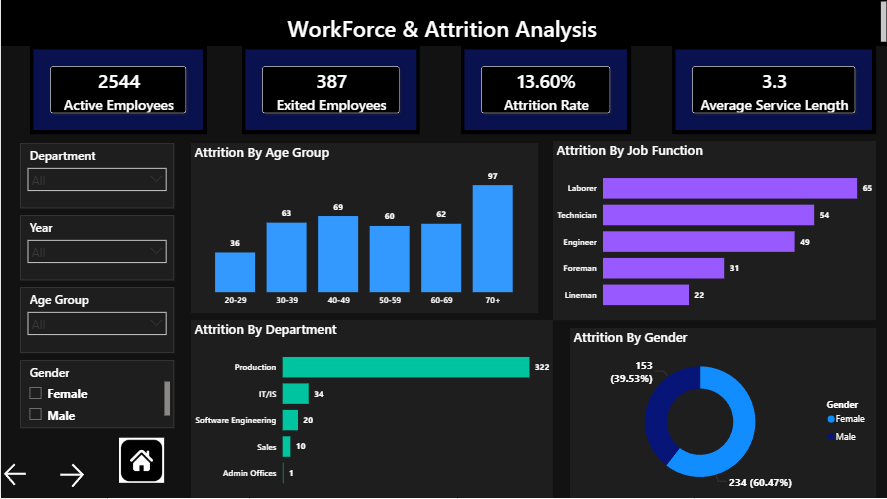

This screenshot's page, from the dashboard's own definition file:
{"tool":"powerbi","page":{"name":"WorkForce & Attrition Analysis","canvas":[1280,720],"ordinal":1},"visuals":[{"type":"columnChart","title":"Attrition By Age Group","fields":{"Category":["HR_DATA.Age Group"],"Y":["Date_Table.Attrition Count"]},"box":[273.6,208.8,499.7,244.8],"z":0},{"type":"clusteredBarChart","title":"Attrition By Department","fields":{"Category":["HR_DATA.Department"],"Y":["Date_Table.Attrition Count"]},"box":[273.6,463.7,521.3,256.3],"z":1000},{"type":"donutChart","title":"Attrition By Gender","fields":{"Category":["HR_DATA.Gender"],"Y":["Date_Table.Attrition Count"]},"box":[819.4,475.2,440.6,244.8],"z":2000},{"type":"barChart","title":"Attrition By Job Function","fields":{"Category":["HR_DATA.Job Function"],"Y":["Date_Table.Attrition Count"]},"box":[794.9,205.9,465.1,257.8],"z":3000},{"type":"cardVisual","fields":{"Data":["Date_Table.Attrition Count"]},"box":[347,69.1,256.3,126.7],"z":4000},{"type":"cardVisual","fields":{"Data":["Date_Table.Attrition Rate"]},"box":[662.4,69.1,244.8,126.7],"z":5000},{"type":"cardVisual","fields":{"Data":["Date_Table.Avg Service Length"]},"box":[966.2,69.1,293.8,126.7],"z":6000},{"type":"slicer","fields":{"Values":["HR_DATA.Department"]},"box":[27.4,208.8,221.8,93.6],"z":7000},{"type":"slicer","fields":{"Values":["HR_DATA.Age Group"]},"box":[27.4,416.2,221.8,95],"z":8000},{"type":"slicer","fields":{"Values":["HR_DATA.Gender"]},"box":[27.4,521.3,221.8,97.9],"z":9000},{"type":"slicer","fields":{"Values":["Date_Table.Year"]},"box":[27.4,312.5,221.8,93.6],"z":10000},{"type":"actionButton","box":[79.2,665.3,59,44.6],"z":11000},{"type":"image","box":[169.9,632.2,64.8,66.2],"z":12000},{"type":"actionButton","box":[0,665.3,66.2,41.8],"z":13000},{"type":"textbox","box":[0,0,1280.2,69.1],"z":14000},{"type":"cardVisual","fields":{"Data":["Date_Table.Active Employees"]},"box":[41.8,69.1,254.9,126.7],"z":15000}]}

Visuals, with their boxes in screenshot pixels (x1, y1, x2, y2), scaled from the page's 1280x720 canvas onto the 887x499 screenshot:
"Attrition By Age Group" columnChart: rect(190, 145, 536, 314)
"Attrition By Department" clusteredBarChart: rect(190, 321, 551, 498)
"Attrition By Gender" donutChart: rect(568, 329, 873, 498)
"Attrition By Job Function" barChart: rect(551, 143, 873, 321)
cardVisual - Date_Table.Attrition Count: rect(240, 48, 418, 136)
cardVisual - Date_Table.Attrition Rate: rect(459, 48, 629, 136)
cardVisual - Date_Table.Avg Service Length: rect(670, 48, 873, 136)
slicer - HR_DATA.Department: rect(19, 145, 173, 210)
slicer - HR_DATA.Age Group: rect(19, 288, 173, 354)
slicer - HR_DATA.Gender: rect(19, 361, 173, 429)
slicer - Date_Table.Year: rect(19, 217, 173, 281)
actionButton: rect(55, 461, 96, 492)
image: rect(118, 438, 163, 484)
actionButton: rect(0, 461, 46, 490)
textbox: rect(0, 0, 886, 48)
cardVisual - Date_Table.Active Employees: rect(29, 48, 206, 136)
